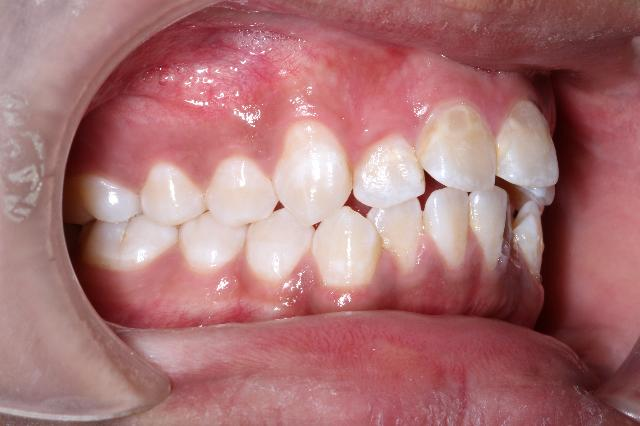canine class III 1/4: (245, 120, 381, 292)
molar class III 1/2: (64, 159, 178, 277)
